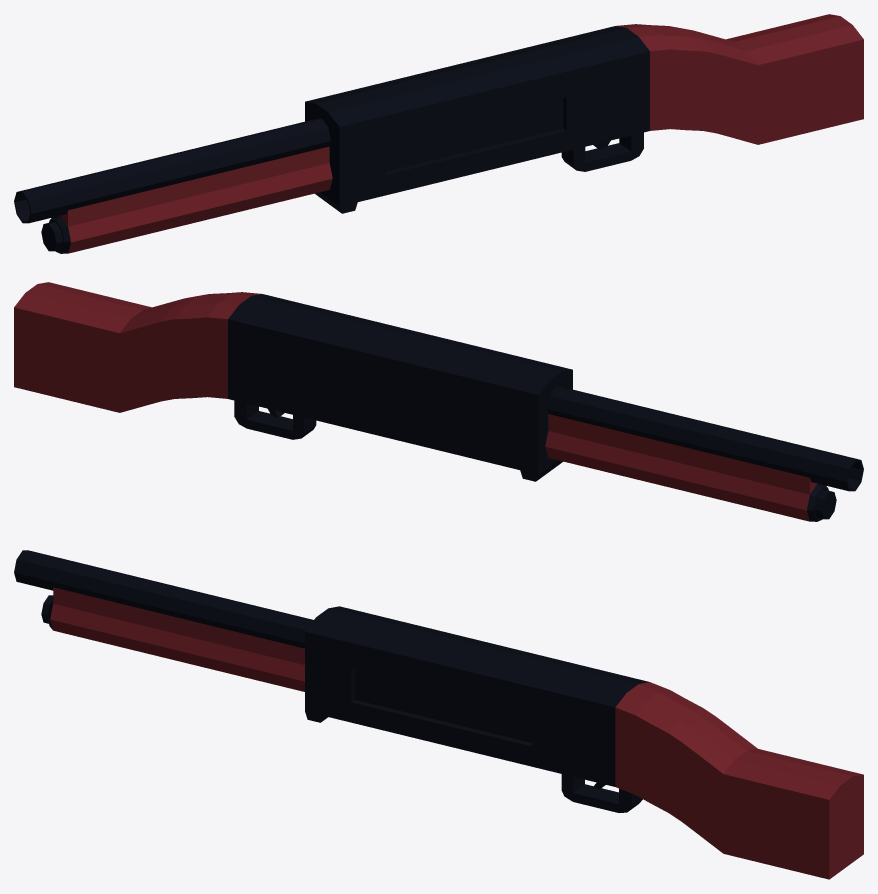
File: shotgun.fbx
3 views of the same model, one above another, from view 1: azimuth 30°, elevation 25°; view 2: azimuth 150°, elevation 25°; view 3: azimuth 330°, elevation 25° (orthographic).
Parts seen in each view (by area): view 1: Cube; view 2: Cube; view 3: Cube.
Boxes of the visible parts, x1,y1,x2,y2 form: Cube: (14,14,863,253); Cube: (14,282,863,521); Cube: (14,550,863,879).
Bounding box in the file's own units: 318 × 46.51 × 23.1.
